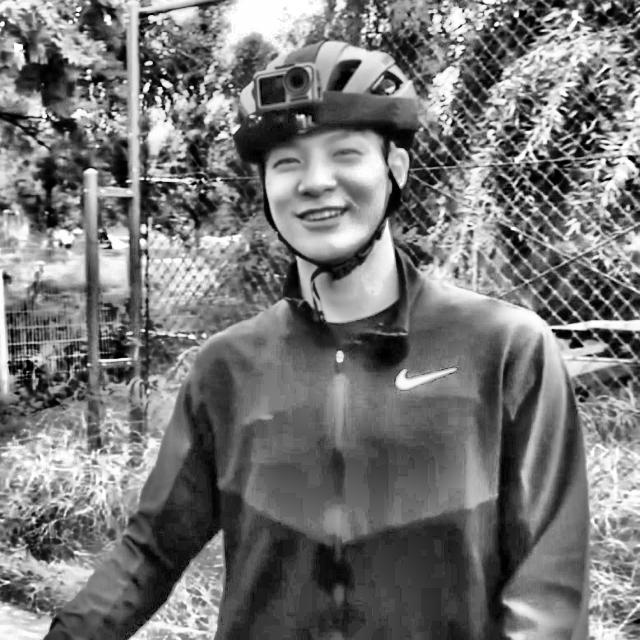Helmet: (232, 40, 423, 300)
